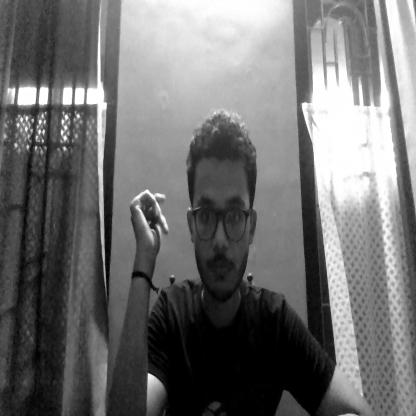Normal: (179, 106, 257, 302)
